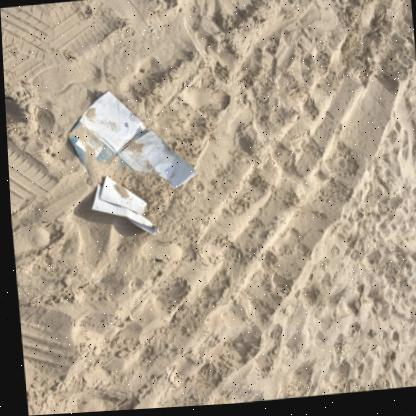Paper: (67, 91, 196, 191), (89, 176, 158, 236)
Waste: (148, 27, 154, 33), (93, 279, 97, 282)
